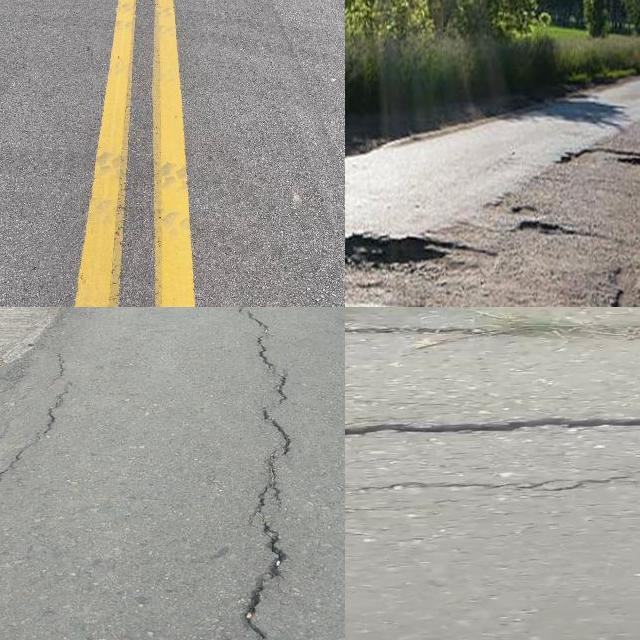Lubang: (345, 236, 482, 302)
Melintang: (345, 405, 640, 452)
Memanjang: (218, 307, 301, 640), (0, 345, 82, 505)
